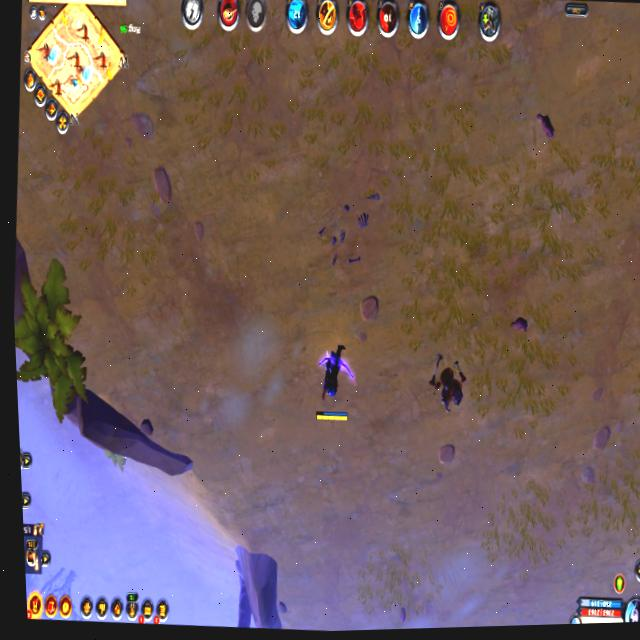red: (307, 334, 361, 427)
